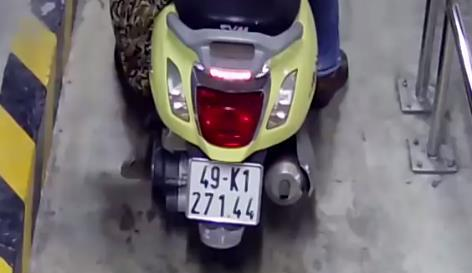lisence: (189, 157, 260, 227)
